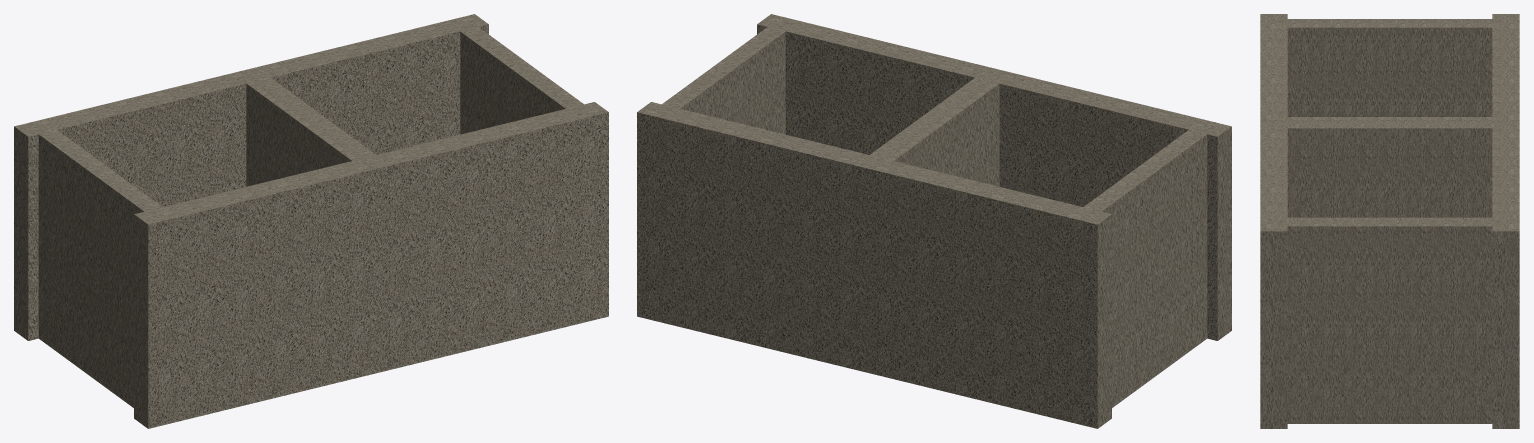
3 views of the same model, side by side, from view 1: azimuth 30°, elevation 25°; view 2: azimuth 150°, elevation 25°; view 3: azimuth 270°, elevation 25° (orthographic). The views are drawn at different scales.
Parts seen in each view (by area): view 1: Plane; view 2: Plane; view 3: Plane.
Boxes of the visible parts, box(x1,y1,x2,y2) form: Plane: box(14, 14, 608, 428); Plane: box(637, 14, 1231, 428); Plane: box(1260, 14, 1519, 428).
Size of the model in its own units: 1.26 by 0.5327 by 0.6343.
1 material, 1 textured.
